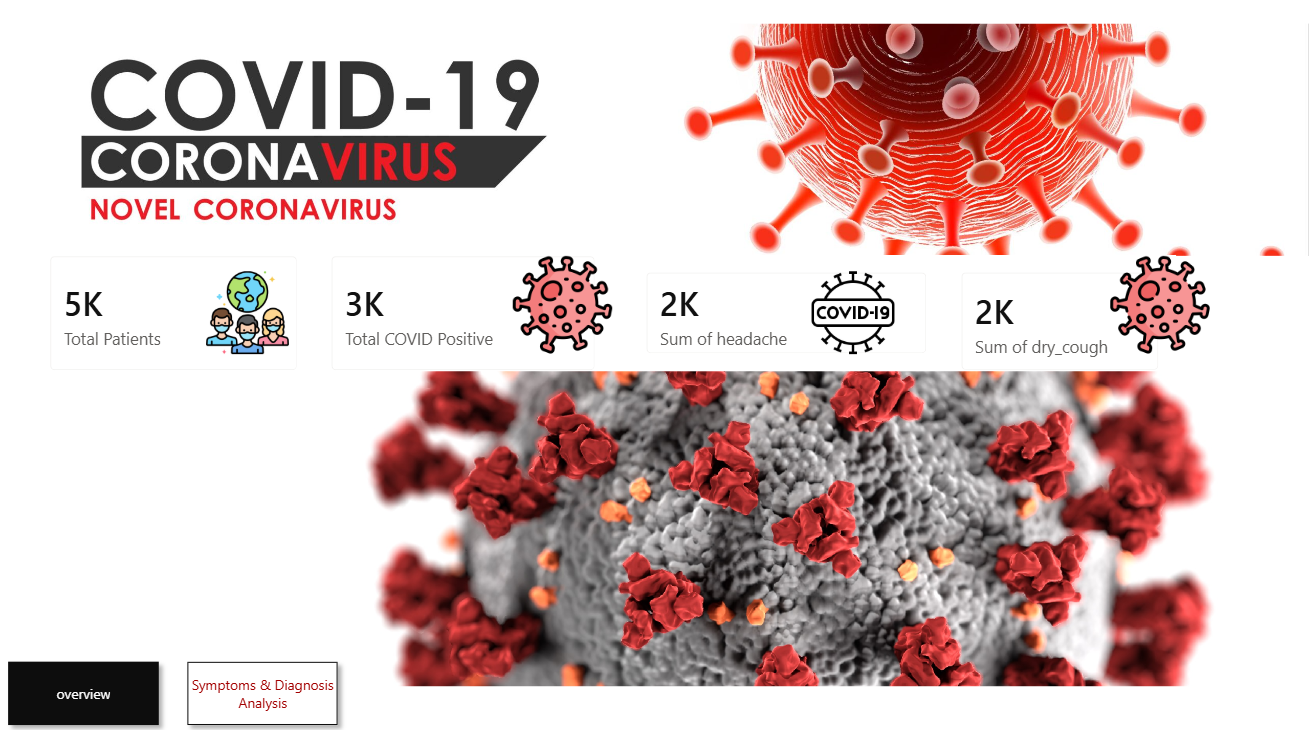

The dashboard page shown, as its layout file describes it:
{"tool":"powerbi","page":{"name":"overview","canvas":[1280,720],"ordinal":0},"visuals":[{"type":"image","box":[0,32,1264,224],"z":0},{"type":"cardVisual","fields":{"Data":["covid19_patient_symptoms_diagnosis.Total Patients"]},"box":[32,240,272,144],"z":1000},{"type":"cardVisual","fields":{"Data":["covid19_patient_symptoms_diagnosis.Total COVID Positive"]},"box":[304,240,288,144],"z":2000},{"type":"cardVisual","fields":{"Data":["Sum(covid19_patient_symptoms_diagnosis.dry_cough)"]},"box":[912,256,224,128],"z":3000},{"type":"image","box":[1072,256,96,96],"z":4000},{"type":"image","box":[496,256,96,96],"z":5000},{"type":"image","box":[0,368,1264,304],"z":6000},{"type":"pageNavigator","box":[0,640,336,80],"z":7000},{"type":"cardVisual","fields":{"Data":["Sum(covid19_patient_symptoms_diagnosis.headache)"]},"box":[608,256,304,112],"z":8000},{"type":"image","box":[192,272,96,80],"z":9000},{"type":"image","box":[720,272,208,80],"z":10000}]}

Visuals, with their boxes in screenshot pixels (x1, y1, x2, y2), scaled from the page's 1280x720 canvas onto the 1311x730 screenshot:
image: 0/32/1295/260
cardVisual - covid19_patient_symptoms_diagnosis.Total Patients: 33/243/311/389
cardVisual - covid19_patient_symptoms_diagnosis.Total COVID Positive: 311/243/606/389
cardVisual - Sum(covid19_patient_symptoms_diagnosis.dry_cough): 934/260/1164/389
image: 1098/260/1196/357
image: 508/260/606/357
image: 0/373/1295/681
pageNavigator: 0/649/344/729
cardVisual - Sum(covid19_patient_symptoms_diagnosis.headache): 623/260/934/373
image: 197/276/295/357
image: 737/276/950/357
